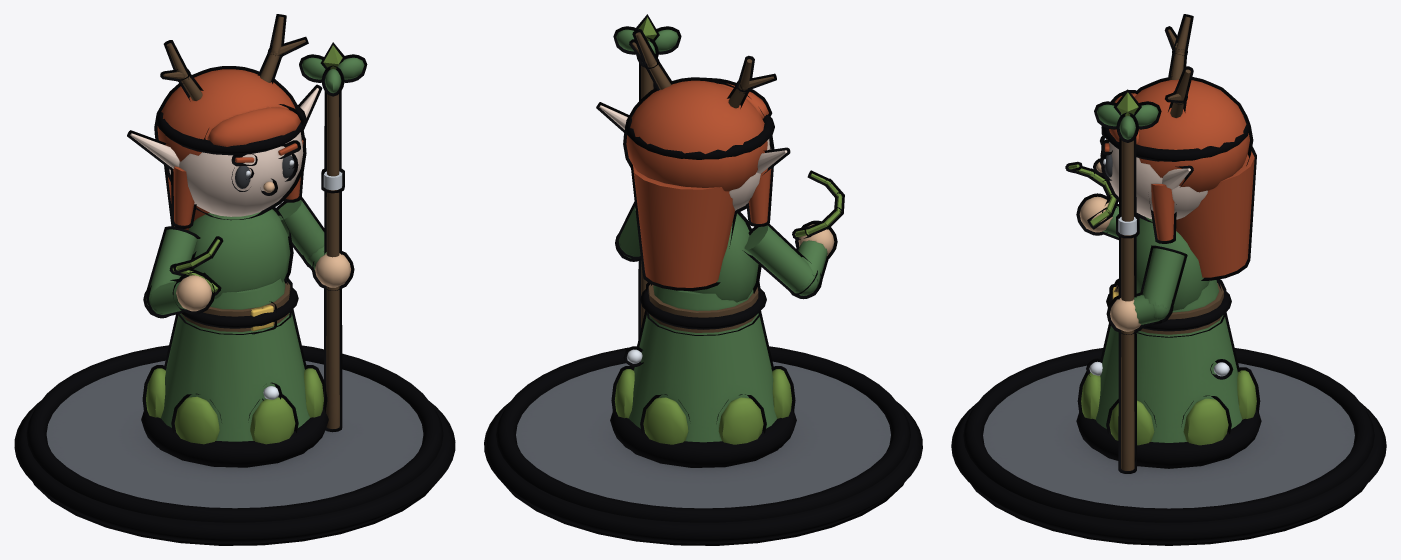
The model's file is druid_s2.fbx.
3 views of the same model, side by side, from view 1: azimuth 30°, elevation 25°; view 2: azimuth 150°, elevation 25°; view 3: azimuth 270°, elevation 25° (orthographic).
Visible parts, largest first — view 1: druid_s2; view 2: druid_s2; view 3: druid_s2.
Boxes of the visible parts, bbox=[...] form: druid_s2: bbox=[14, 14, 455, 545]; druid_s2: bbox=[484, 14, 922, 545]; druid_s2: bbox=[951, 14, 1386, 545].
Bounding box in the file's own units: 1.58 × 1.67 × 1.58.
Materials: 2 (1 with a texture image).
